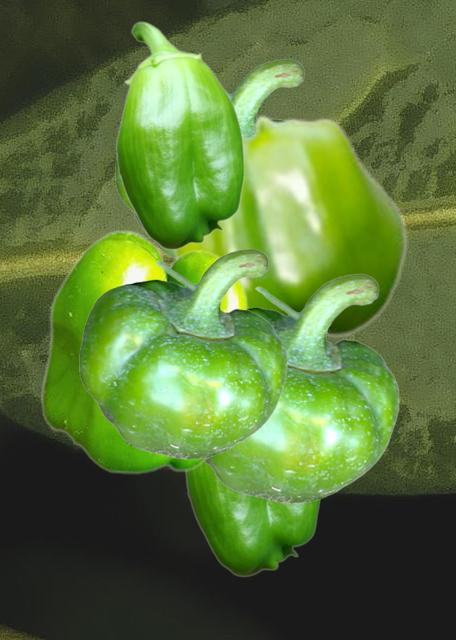bell_pepper: (170, 114, 407, 341), (40, 229, 247, 473), (205, 273, 398, 502), (79, 248, 286, 458), (115, 58, 306, 259), (115, 21, 244, 249), (184, 464, 320, 576)
